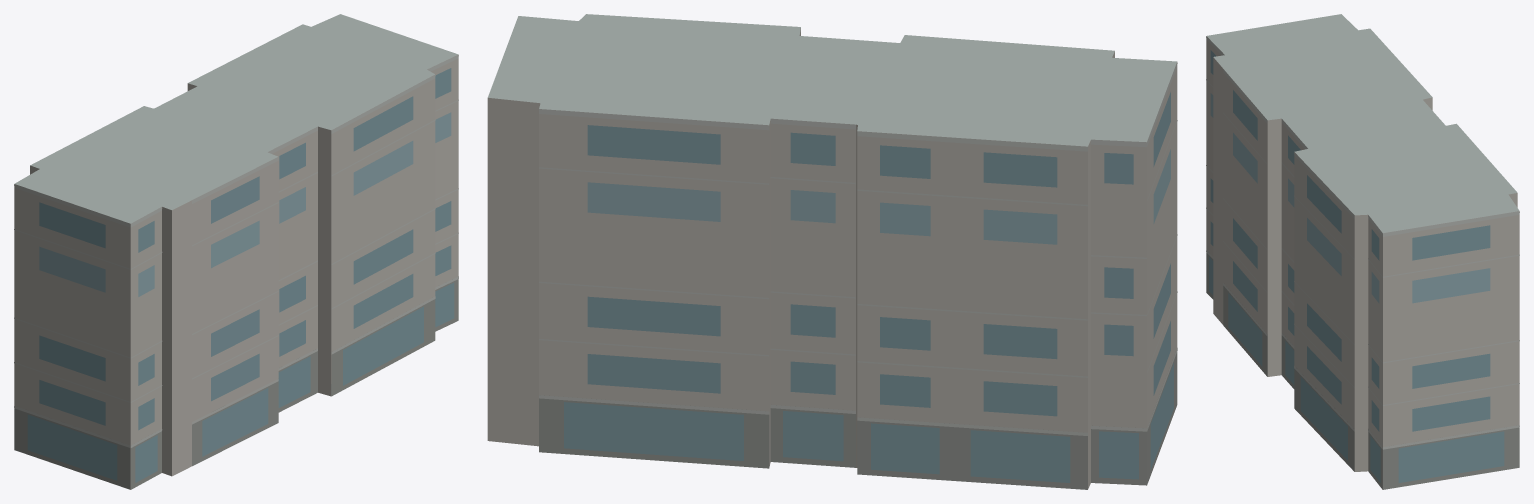
Rendered from survey-upis-32855825.glb.
The picture shows the model from 3 angles, left to right: view 1: azimuth 30°, elevation 25°; view 2: azimuth 150°, elevation 25°; view 3: azimuth 270°, elevation 25°; orthographic projection. The views are drawn at different scales.
Visible parts, largest first — view 1: survey-upis-32855825.tmp; view 2: survey-upis-32855825.tmp; view 3: survey-upis-32855825.tmp.
Part boxes in pixels (<box>): survey-upis-32855825.tmp: <box>14,14,458,489</box>; survey-upis-32855825.tmp: <box>487,14,1177,489</box>; survey-upis-32855825.tmp: <box>1206,14,1519,489</box>.
Bounding box in the file's own units: 30.25 × 16.5 × 18.28.
